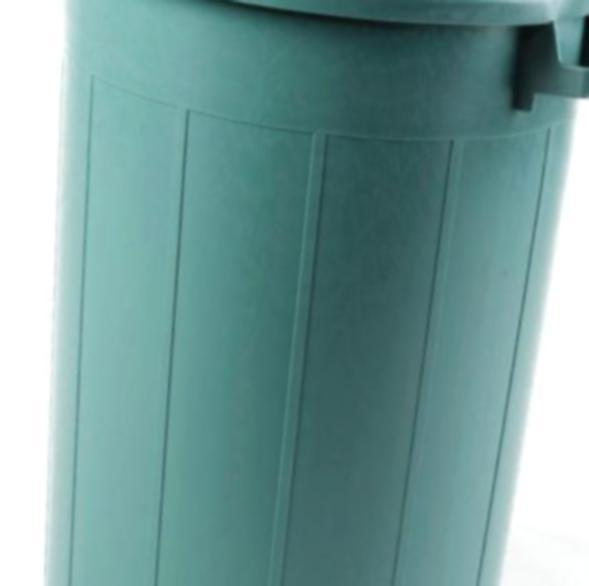Bote de Basura: (16, 0, 589, 586)
